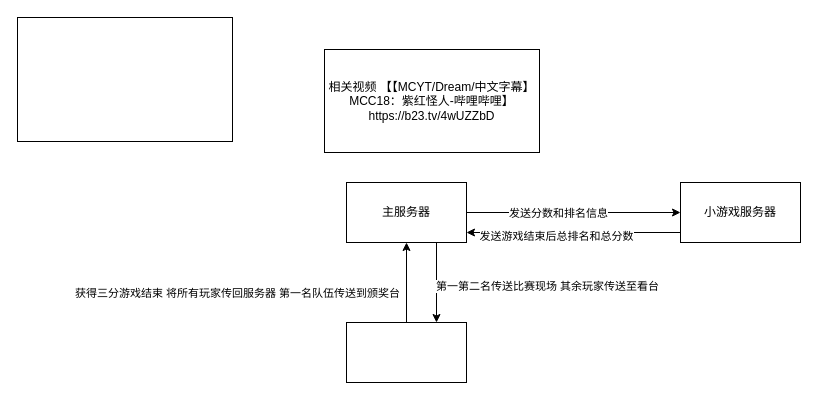
Some shapes in this 818 by 400 pixel diagram are drawn without their labels. The shapes that lost their labels are listed below. From the top down, each one's centre as x and y in pixels, then its label:
At [124,79]: "所有分数计算规则按视频/wiki介绍来 wiki：mcchampionship.fandom.com".
At [406,352]: "八轮小游戏结束后总排名第一第二进入最后游戏 抉择出总冠军".
